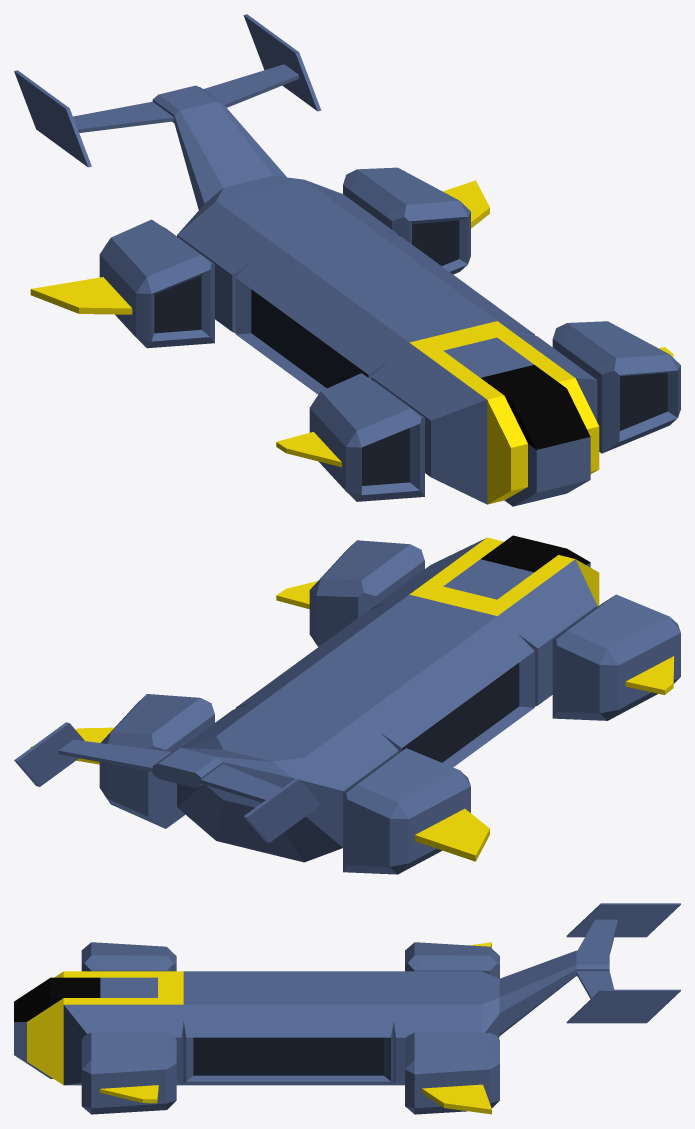
3 views of the same model, one above another, from view 1: azimuth 30°, elevation 25°; view 2: azimuth 150°, elevation 25°; view 3: azimuth 270°, elevation 25° (orthographic). The views are drawn at different scales.
Parts seen in each view (by area): view 1: Cube; view 2: Cube; view 3: Cube.
Part boxes in pixels (x1,y1,x2,y2): Cube: (14, 14, 680, 506); Cube: (14, 535, 680, 874); Cube: (14, 903, 680, 1114).
Size of the model in its own units: 4.16 by 1.41 by 7.01.
Materials: 1 (1 with a texture image).
